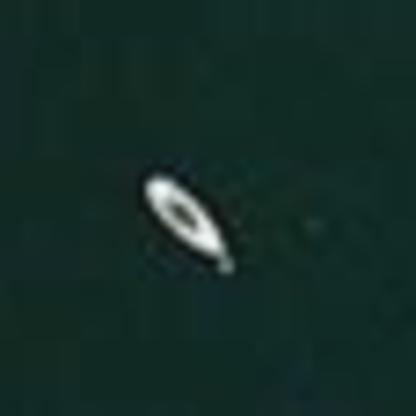ship: (128, 162, 246, 284)
